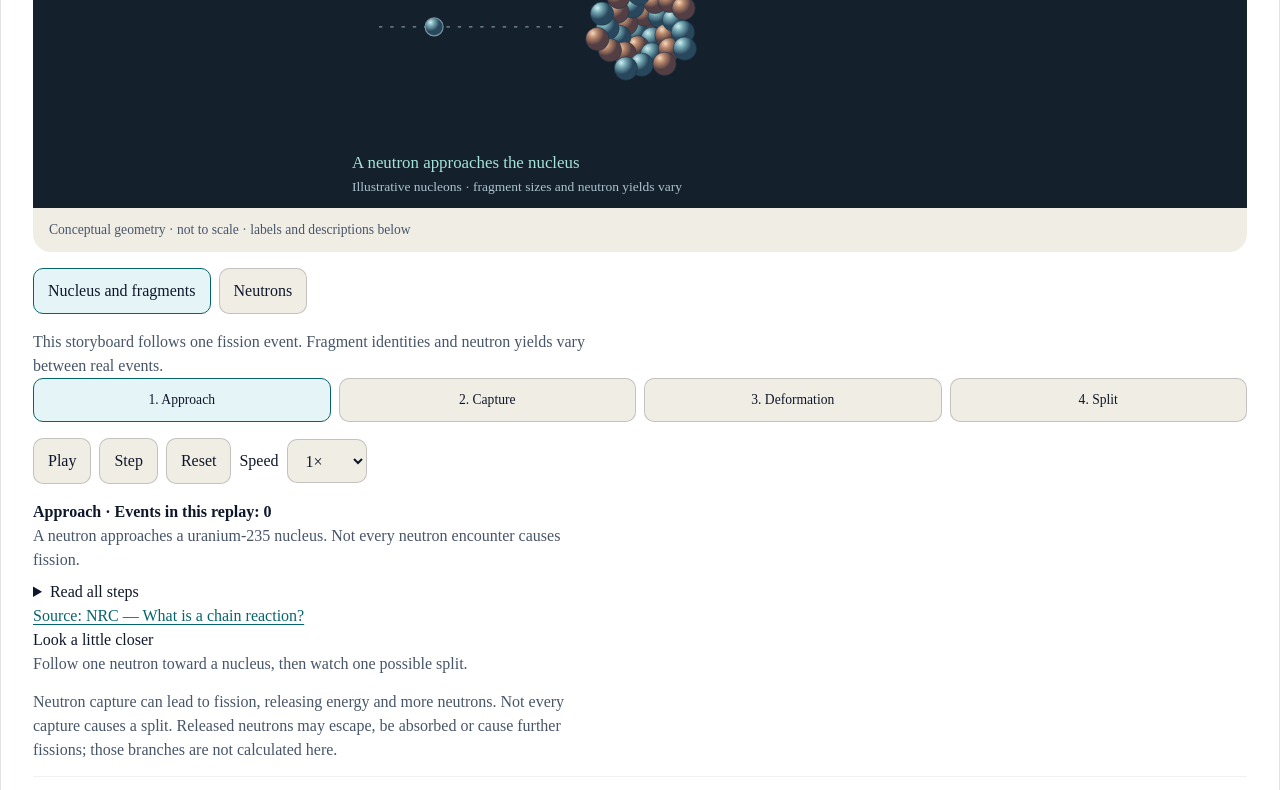
Test: replayable fission exhibit › keeps a single event when revisiting stages and resets explicitly
(page scrolled)
Click the button "4. Split": (1098, 400) left=950, top=378, right=1247, bottom=422
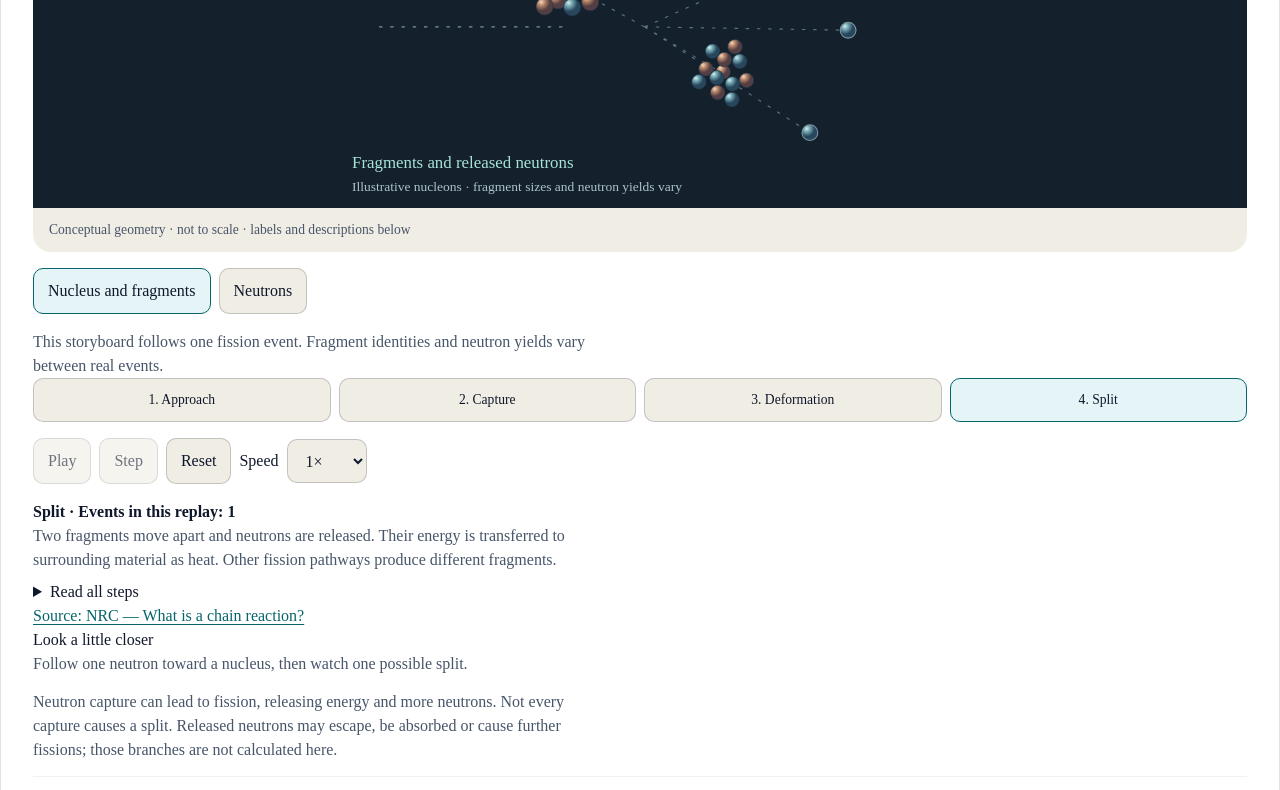
Now the text "Split · Events in this replay: 1" is shown, box left=33, top=503, right=235, bottom=520
Click the button "1. Approach": (182, 400) left=33, top=378, right=330, bottom=422
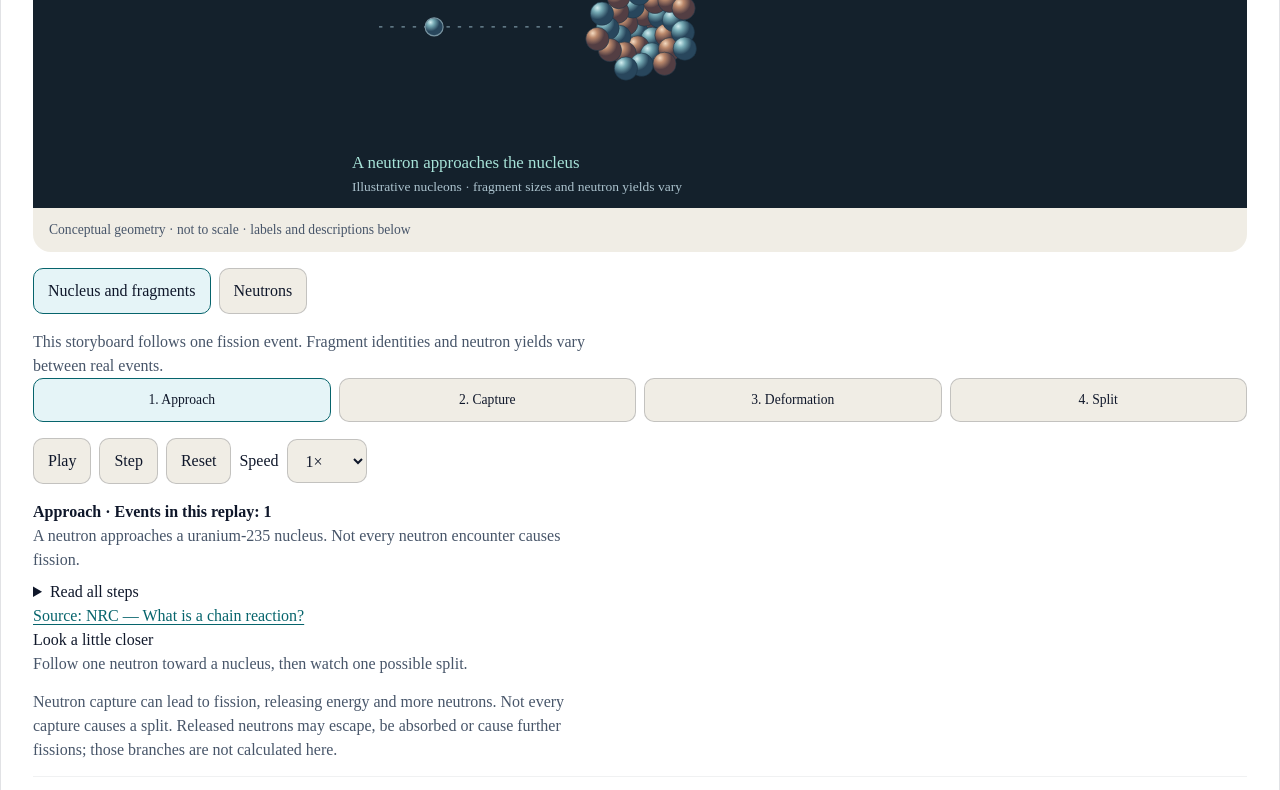
Click the button "4. Split": (1098, 400) left=950, top=378, right=1247, bottom=422
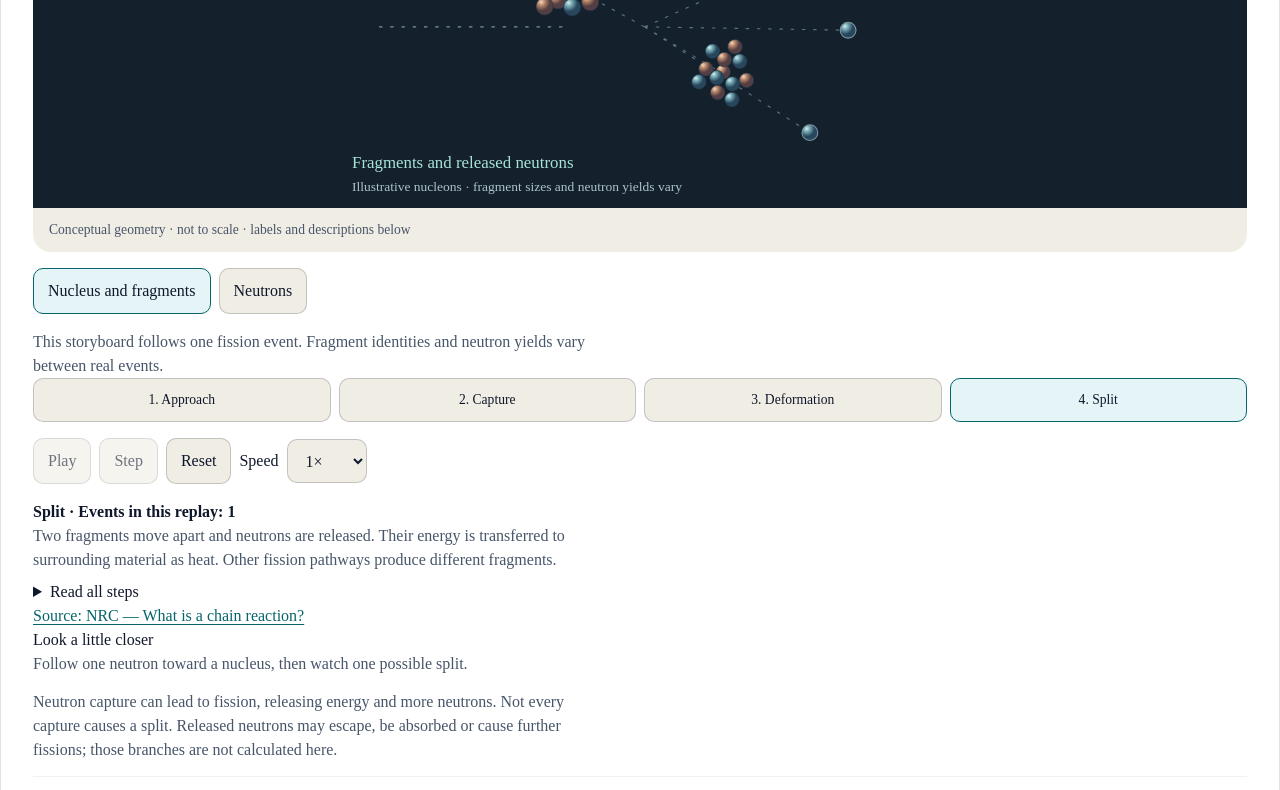
Now the text "Split · Events in this replay: 1" is shown, box left=33, top=503, right=235, bottom=520
Click the button "Reset": (199, 461) left=166, top=438, right=231, bottom=484
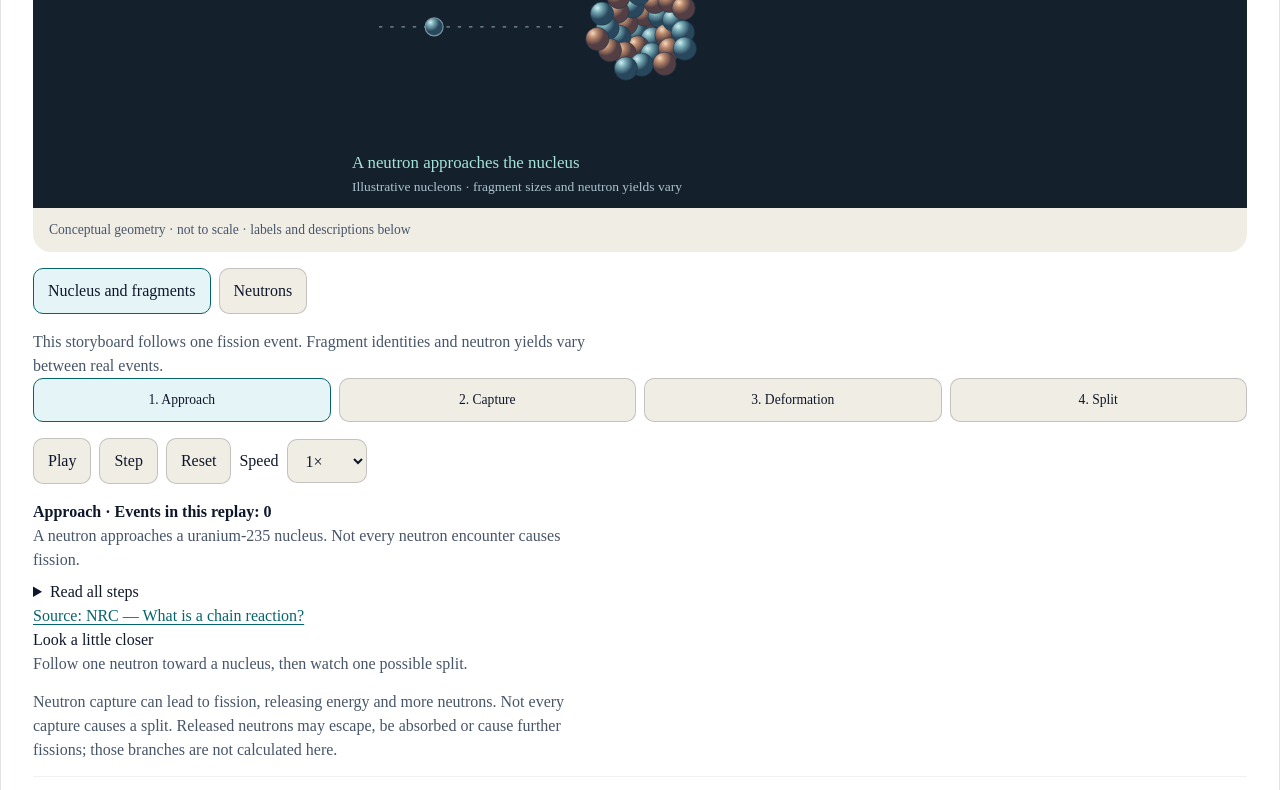
Now the text "Approach · Events in this replay: 0" is shown, box left=33, top=503, right=272, bottom=520
